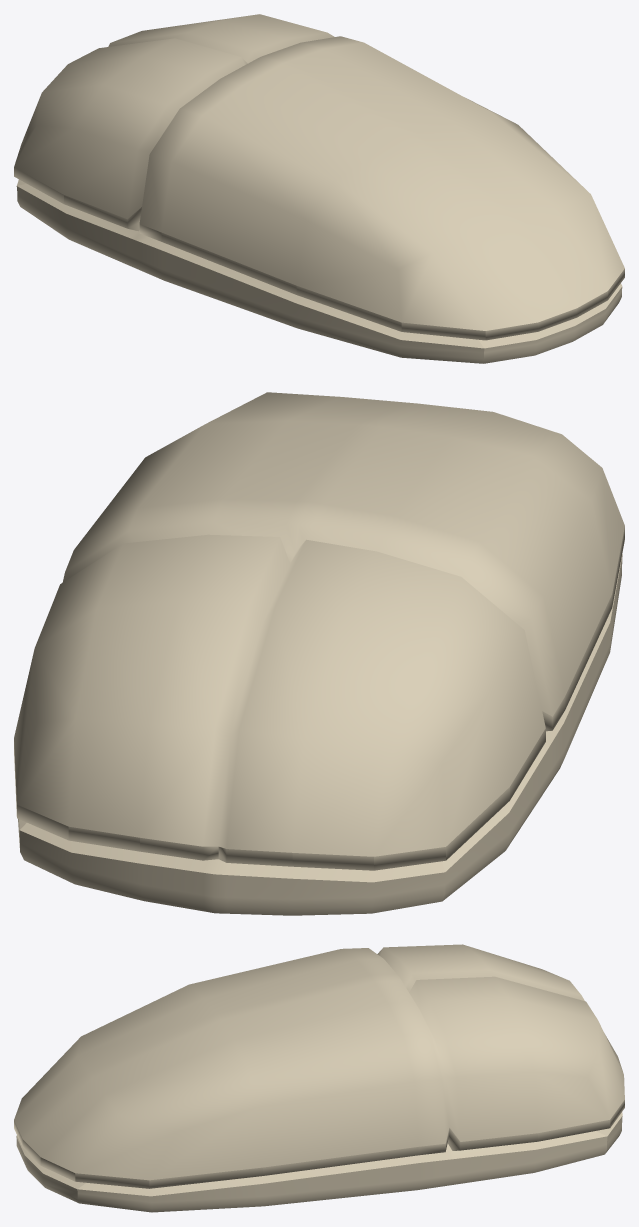
File: computer_mouse.fbx
3 renders of one model, top to bottom at view 1: azimuth 30°, elevation 25°; view 2: azimuth 150°, elevation 25°; view 3: azimuth 270°, elevation 25°, orthographic. The views are drawn at different scales.
Parts seen in each view (by area): view 1: pCube137; view 2: pCube137; view 3: pCube137.
Part boxes in pixels (x1,y1,x2,y2): pCube137: (14,14,624,363); pCube137: (14,392,624,915); pCube137: (14,944,624,1212).
Size of the model in its own units: 1.86 by 0.7765 by 2.86.
